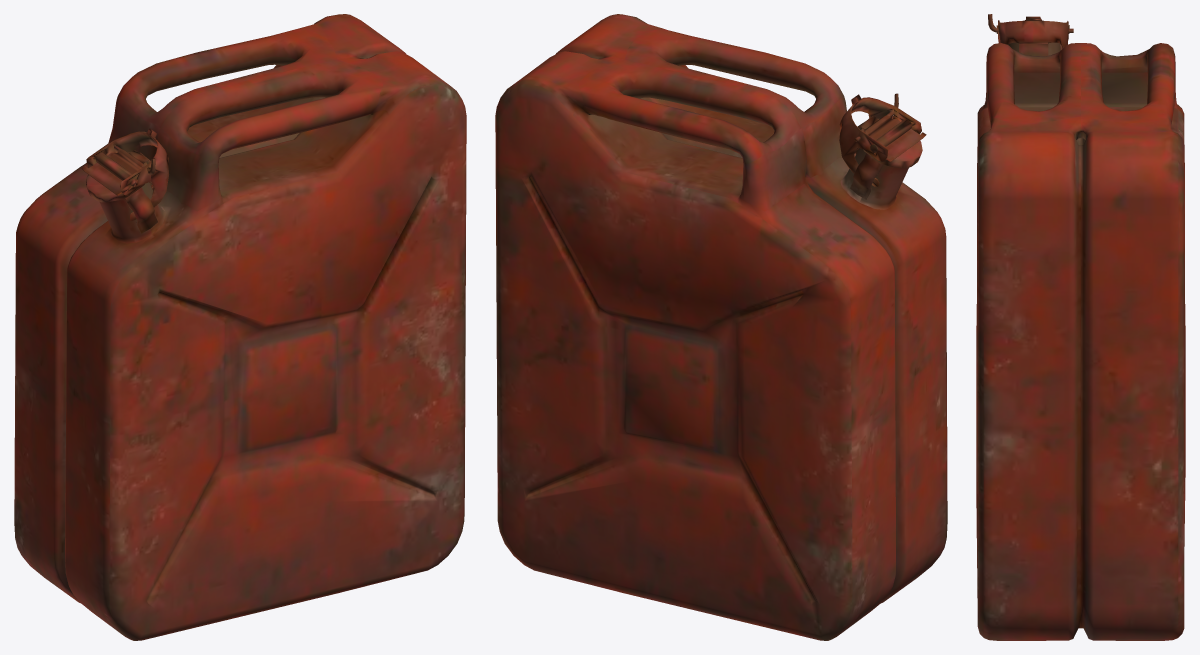
Rendered from metal_jerrycan_lod1.glb.
The picture shows the model from 3 angles, left to right: view 1: azimuth 30°, elevation 25°; view 2: azimuth 150°, elevation 25°; view 3: azimuth 270°, elevation 25°; orthographic projection. The views are drawn at different scales.
Visible parts, largest first — view 1: metal_jerrycan; view 2: metal_jerrycan; view 3: metal_jerrycan.
Part boxes in pixels (x1,y1,x2,y2): metal_jerrycan: (14, 14, 466, 640); metal_jerrycan: (495, 14, 947, 640); metal_jerrycan: (976, 14, 1185, 640).
Size of the model in its own units: 0.35 by 0.4548 by 0.1717.
1 material, 1 textured.
